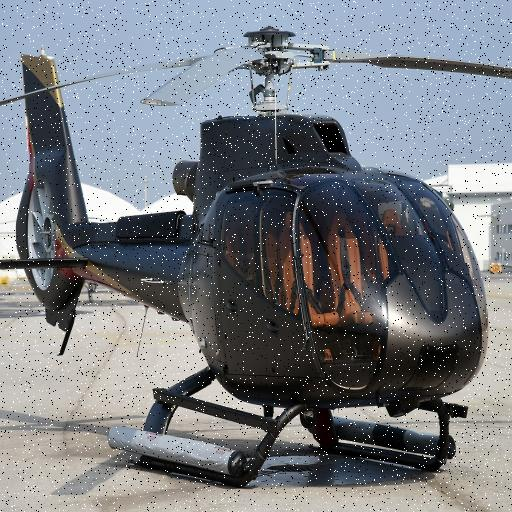helicopter: (1, 17, 499, 503)
